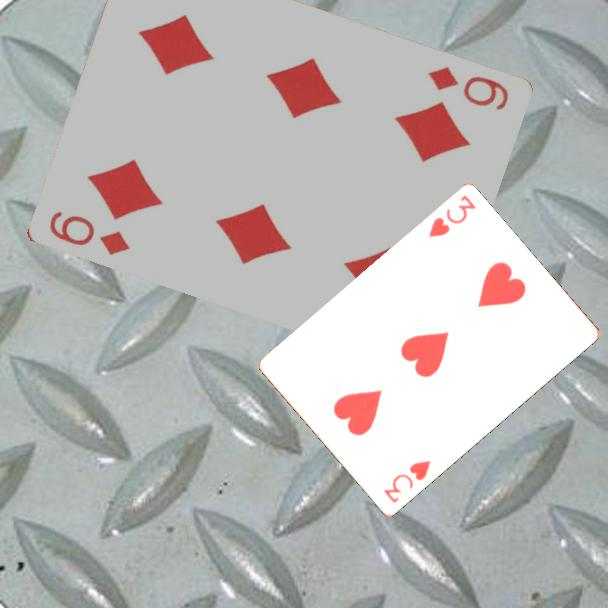d06: (45, 208, 133, 259), (423, 63, 511, 114)
h03: (380, 457, 434, 507), (425, 192, 479, 241)
